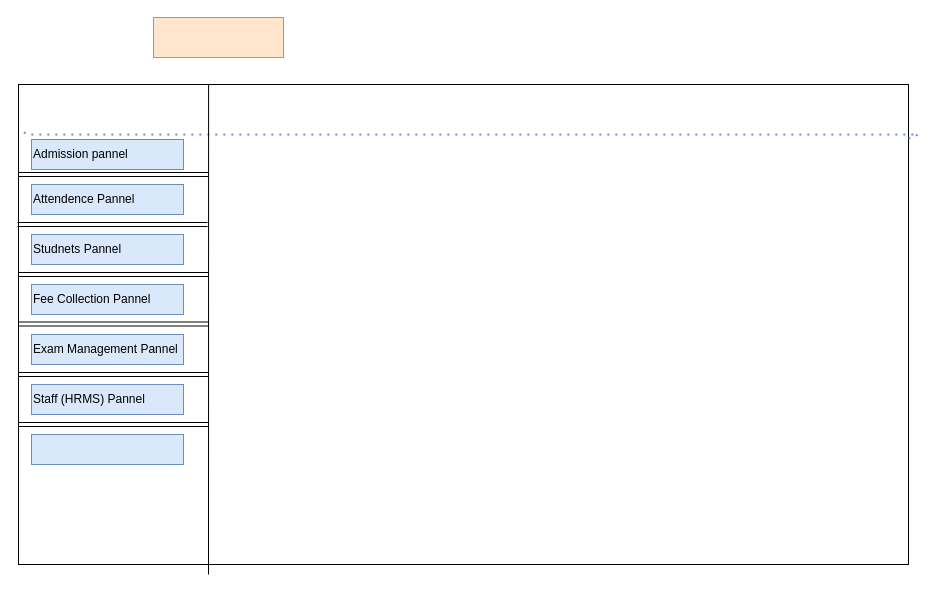
The diagram is 938 pixels wide and 593 high, and some of its shapes have lost their labels. The shapes that lost their labels are listed below. From the top down, each one's centre as x and y in pixels, then its label:
the point at 218,37: Admin View
the point at 107,449: Cannel/Notication Pannel
